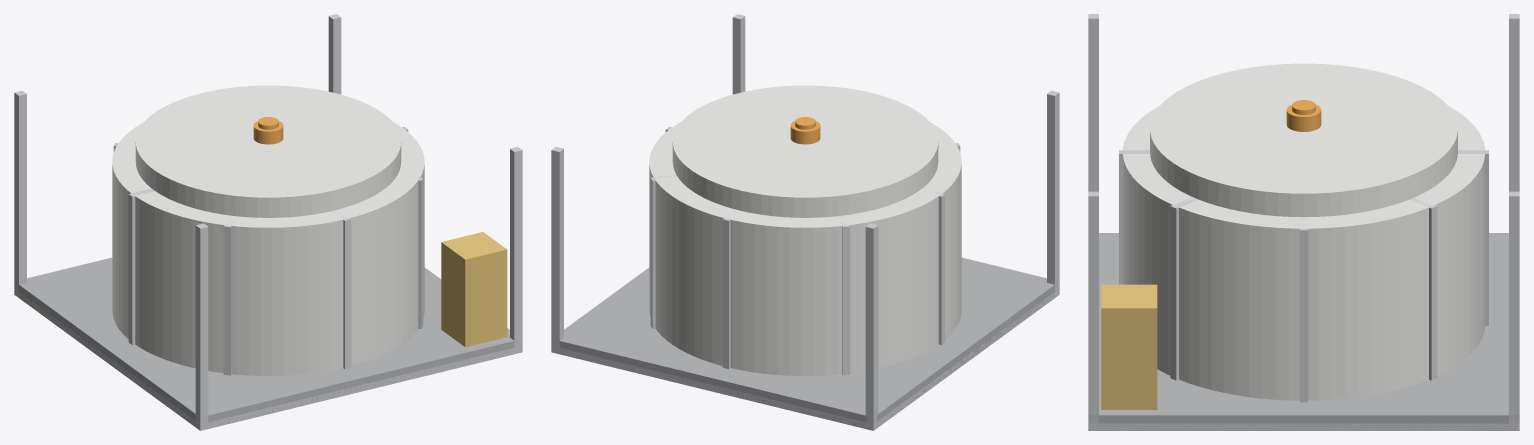
File: power14_reaction_wheel_l.glb
3 views of the same model, side by side, from view 1: azimuth 30°, elevation 25°; view 2: azimuth 150°, elevation 25°; view 3: azimuth 270°, elevation 25° (orthographic). The views are drawn at different scales.
Visible parts, largest first — view 1: wheel_housing, base_plate, slot_frame, electronics, housing_ribs, port_1; view 2: wheel_housing, base_plate, slot_frame, housing_ribs, port_1; view 3: wheel_housing, base_plate, slot_frame, electronics, housing_ribs, port_1.
Boxes of the visible parts, x1,y1,x2,y2 form: wheel_housing: (112, 85, 424, 375); base_plate: (14, 257, 514, 428); slot_frame: (14, 14, 522, 430); electronics: (441, 232, 507, 347); housing_ribs: (113, 127, 423, 375); port_1: (253, 117, 283, 144); wheel_housing: (649, 85, 961, 375); base_plate: (559, 257, 1059, 429); slot_frame: (551, 14, 1059, 430); housing_ribs: (650, 127, 960, 375); port_1: (790, 117, 820, 144); wheel_housing: (1123, 63, 1484, 400); base_plate: (1088, 233, 1519, 430); slot_frame: (1088, 14, 1519, 430); electronics: (1101, 284, 1157, 409); housing_ribs: (1119, 150, 1488, 402); port_1: (1286, 100, 1321, 131).
Bounding box in the file's own units: 1 × 0.6 × 1.
